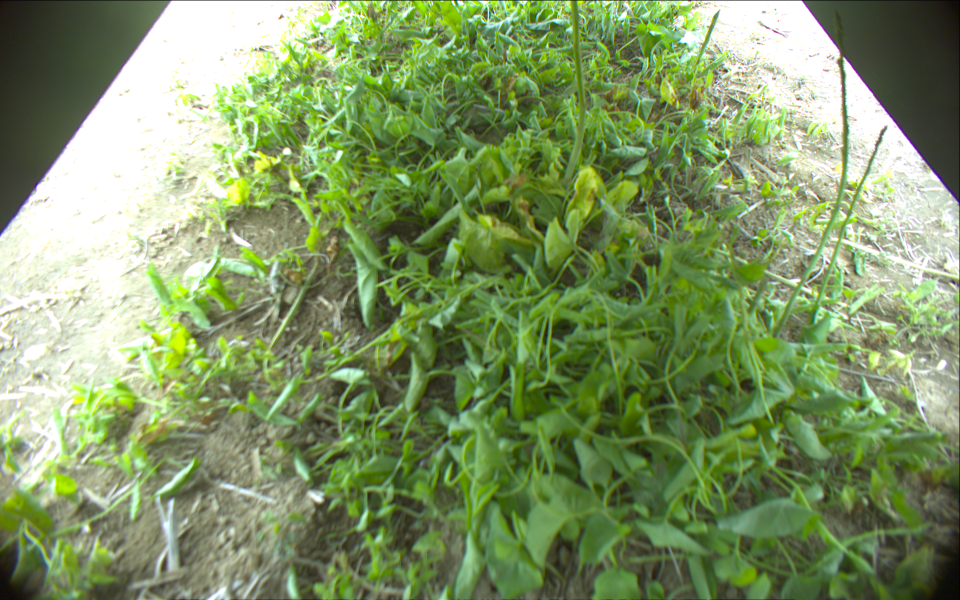aspa: (775, 47, 847, 332), (810, 124, 886, 327), (564, 1, 587, 182), (689, 9, 720, 83)
